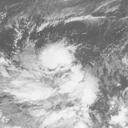cyclone: (38, 42, 75, 73)
